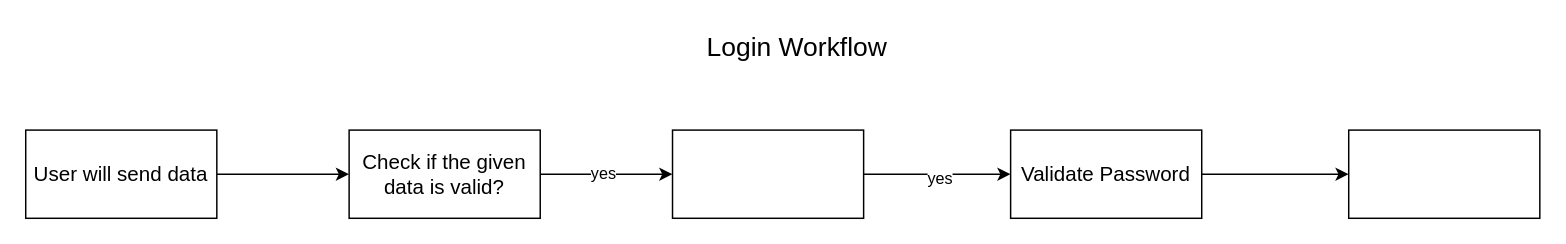
Some shapes in this 1566 by 244 pixel diagram are drawn without their labels. Each missing label, with the centre of its shape:
"check if the user already exist" goes at point 767,173.
"Create an access token and refresh token" goes at point 1443,173.
